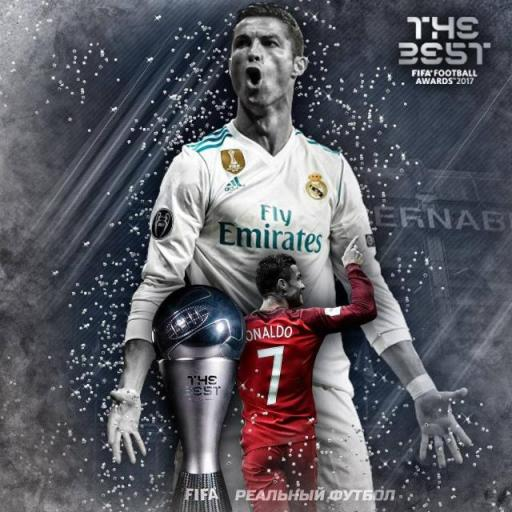Adidas: (223, 174, 246, 193)
Emirates: (216, 201, 326, 255)
